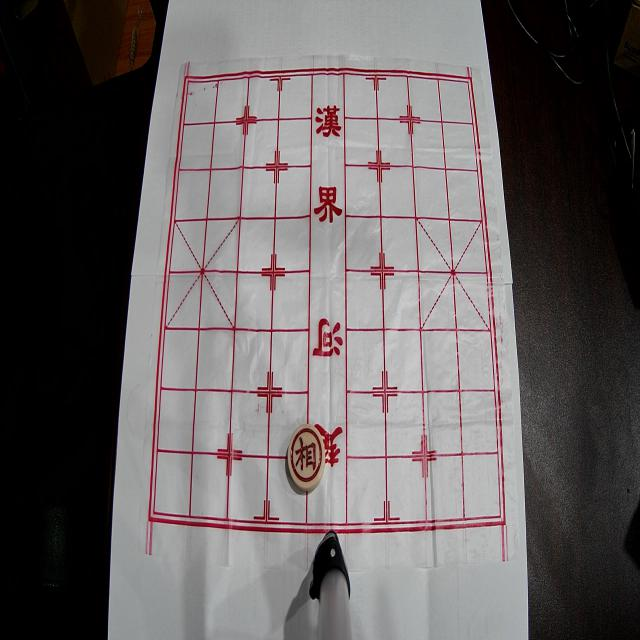red-elephant: (288, 424, 325, 491)
